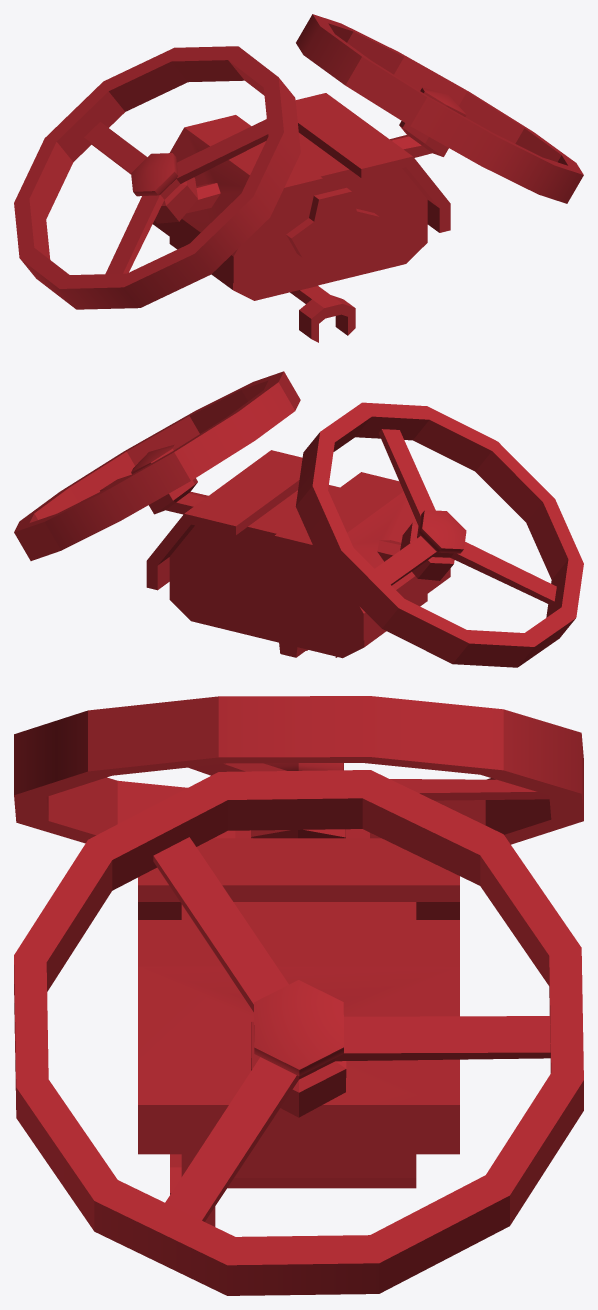
The model's file is Drone_Offence.fbx.
3 renders of one model, top to bottom at view 1: azimuth 30°, elevation 25°; view 2: azimuth 150°, elevation 25°; view 3: azimuth 270°, elevation 25°, orthographic. The views are drawn at different scales.
Visible parts, largest first — view 1: Drone_Offence; view 2: Drone_Offence; view 3: Drone_Offence.
Boxes of the visible parts, x1,y1,x2,y2 form: Drone_Offence: [14, 14, 583, 342]; Drone_Offence: [14, 371, 583, 667]; Drone_Offence: [14, 696, 583, 1295].
Size of the model in its own units: 115 by 55.95 by 59.22.
